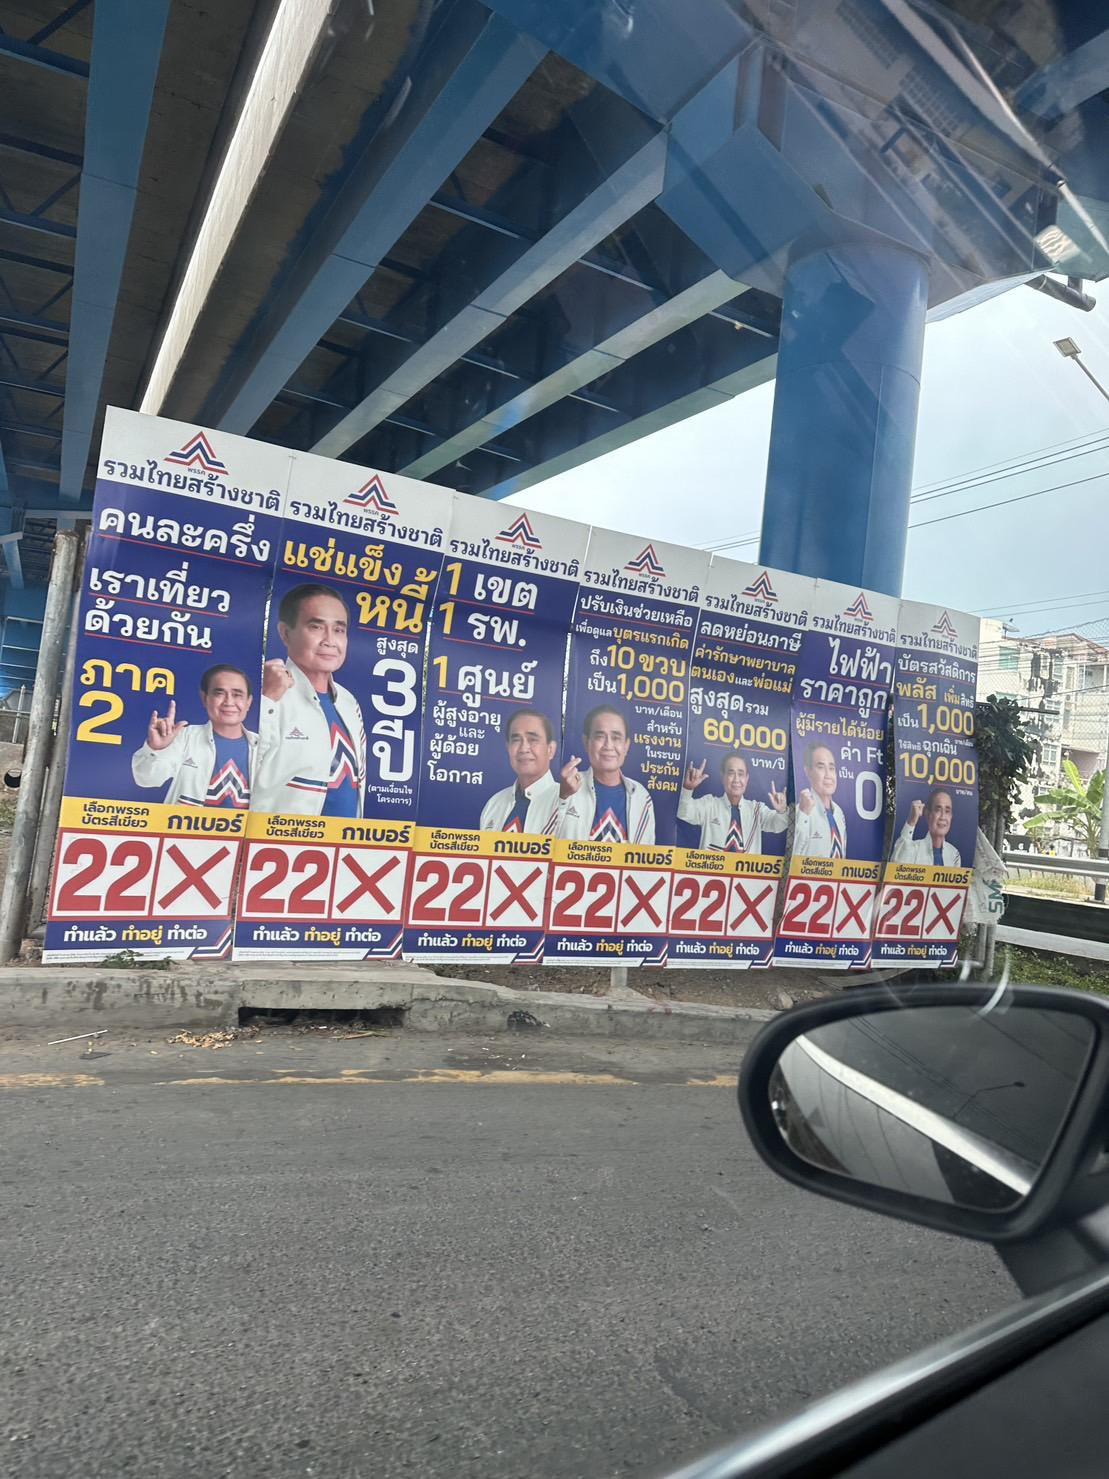Banner: (31, 390, 256, 974), (250, 399, 428, 968), (428, 427, 585, 988), (594, 437, 713, 983), (812, 430, 913, 998), (718, 436, 814, 998), (903, 450, 999, 983)
